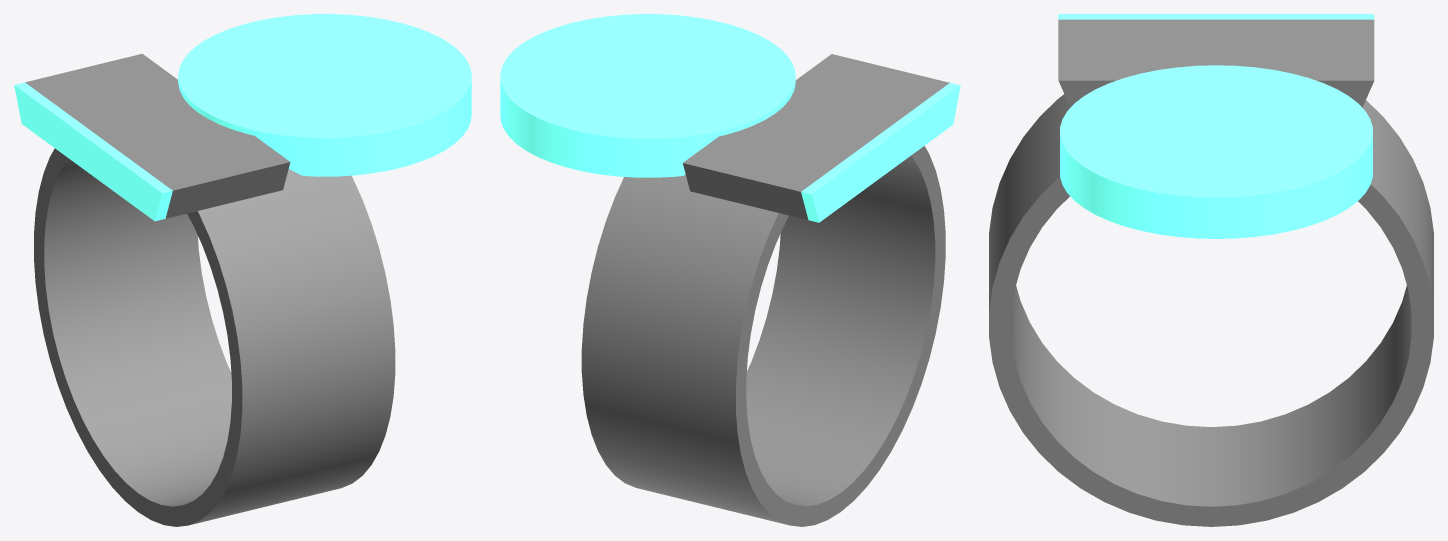
Rendered from tool-icon.fbx.
The picture shows the model from 3 angles, left to right: view 1: azimuth 30°, elevation 25°; view 2: azimuth 150°, elevation 25°; view 3: azimuth 270°, elevation 25°; orthographic projection. The views are drawn at different scales.
Parts seen in each view (by area): view 1: pasted__pPipe7, pasted__pCylinder7, pasted__pasted__pasted__Tool__Header__Embellishment5; view 2: pasted__pPipe7, pasted__pCylinder7, pasted__pasted__pasted__Tool__Header__Embellishment5; view 3: pasted__pPipe7, pasted__pCylinder7, pasted__pasted__pasted__Tool__Header__Embellishment5.
Boxes of the visible parts, box(x1,y1,x2,y2) form: pasted__pPipe7: box(34, 148, 395, 526); pasted__pCylinder7: box(178, 14, 471, 176); pasted__pasted__pasted__Tool__Header__Embellishment5: box(14, 53, 290, 221); pasted__pPipe7: box(581, 146, 945, 526); pasted__pCylinder7: box(500, 14, 795, 177); pasted__pasted__pasted__Tool__Header__Embellishment5: box(683, 54, 960, 222); pasted__pPipe7: box(989, 94, 1433, 526); pasted__pCylinder7: box(1060, 65, 1372, 238); pasted__pasted__pasted__Tool__Header__Embellishment5: box(1058, 14, 1374, 107).
Size of the model in its own units: 19.44 by 19.82 by 19.28.
